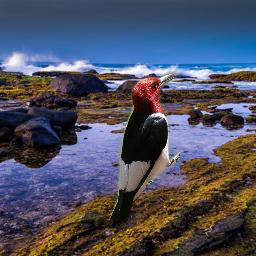Woodpecker: (107, 71, 180, 220)
